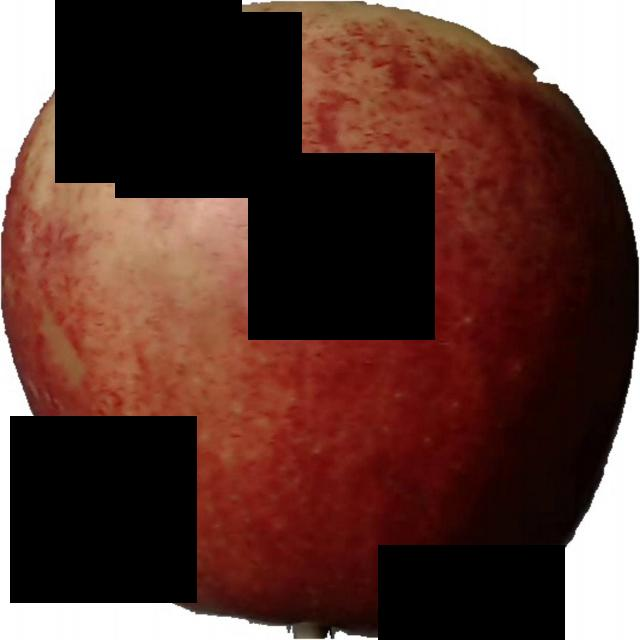apple: (5, 14, 638, 638)
